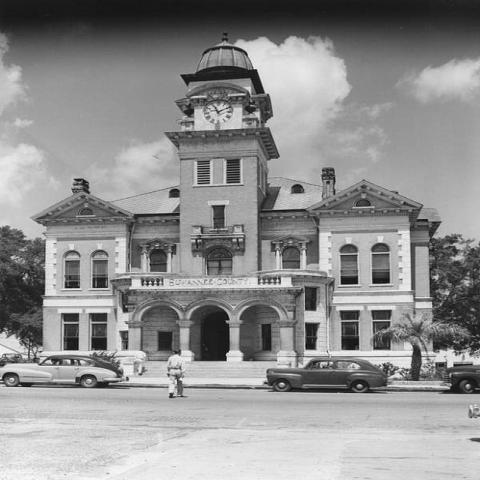car: (267, 356, 390, 396), (0, 354, 124, 388), (441, 364, 479, 393), (0, 353, 25, 365)
